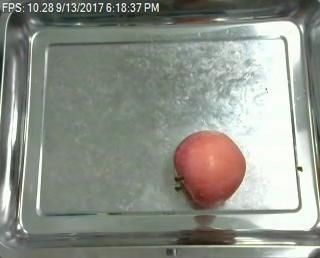apple: (173, 130, 247, 205)
